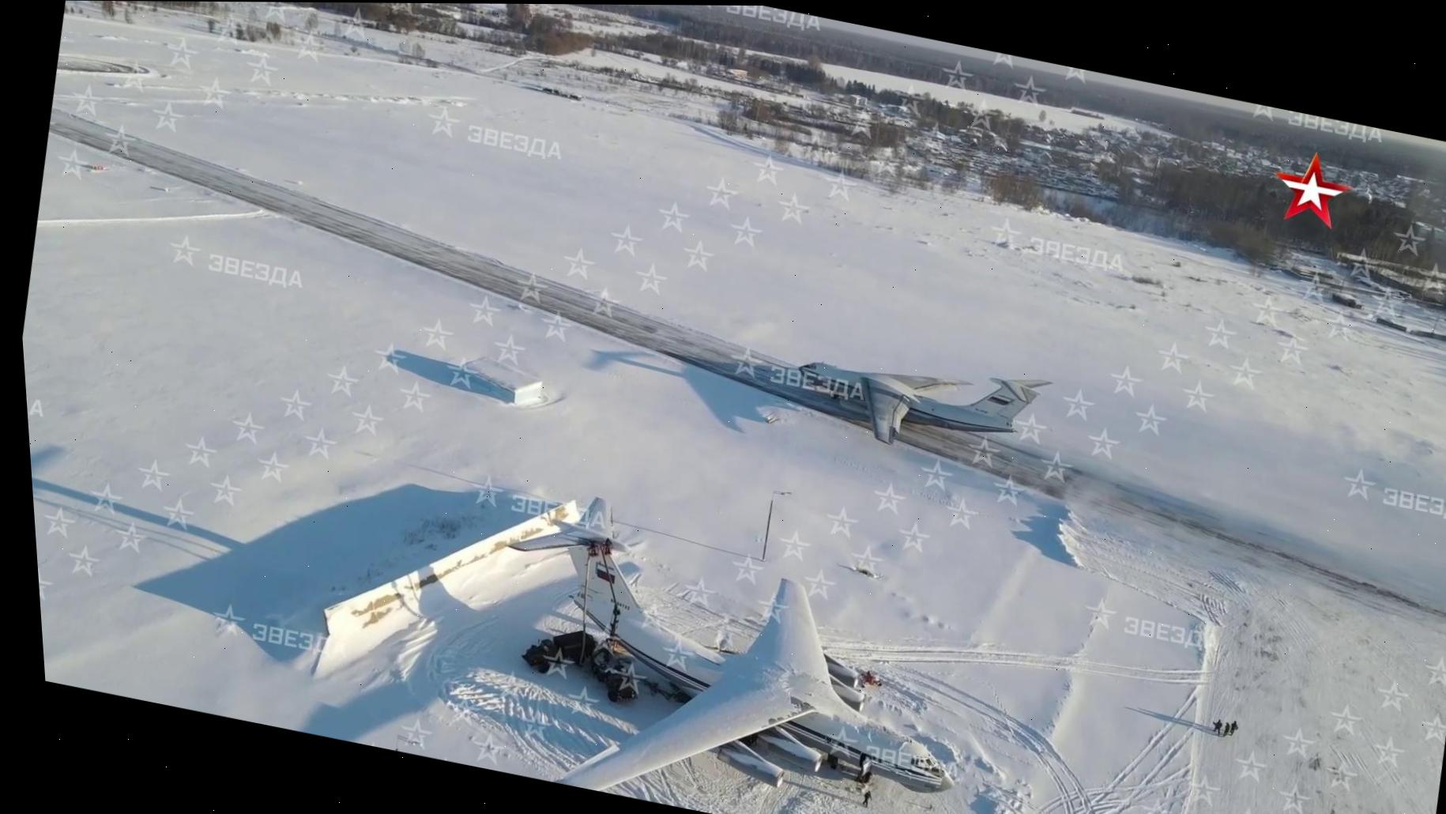person: (1216, 713, 1233, 743), (1225, 716, 1241, 742), (858, 789, 875, 811), (1209, 716, 1225, 737)
plane: (460, 481, 999, 814), (785, 331, 1059, 475)
truck: (511, 616, 597, 687), (573, 642, 649, 711)
